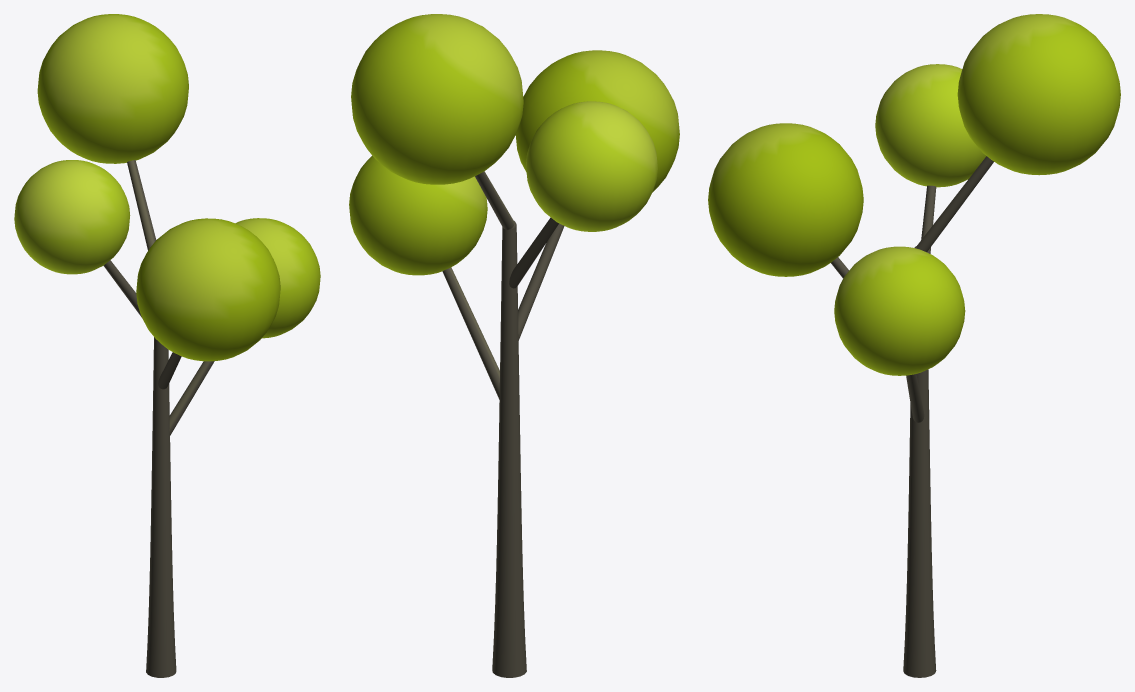
Rendered from tree-107.obj.
3 views of the same model, side by side, from view 1: azimuth 30°, elevation 25°; view 2: azimuth 150°, elevation 25°; view 3: azimuth 270°, elevation 25° (orthographic). The views are drawn at different scales.
Visible parts, largest first — view 1: tree; view 2: tree; view 3: tree.
Boxes of the visible parts, bbox=[...] form: tree: bbox=[14, 14, 320, 677]; tree: bbox=[349, 14, 679, 677]; tree: bbox=[708, 14, 1120, 677].
Bounding box in the file's own units: 232 × 494 × 283.
